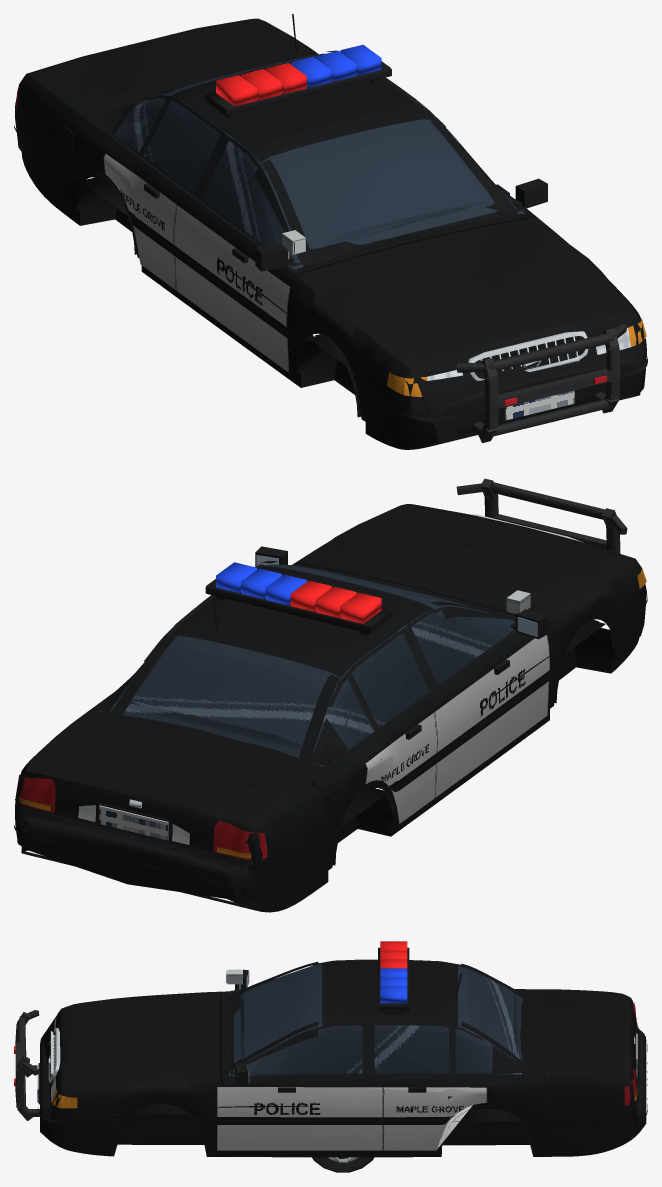
Rendered from crownpi08.glb.
3 renders of one model, top to bottom at view 1: azimuth 30°, elevation 25°; view 2: azimuth 150°, elevation 25°; view 3: azimuth 270°, elevation 25°, orthographic. The views are drawn at different scales.
Parts seen in each view (by area): view 1: Paint, Body, Body_far, Paint_far, BarR, BarB; view 2: Paint, Body, Body_far, Paint_far, BarR, BarB; view 3: Paint, Body, Body_far, Paint_far, BarB, BarR, Wheel_far, Wheel.
Part boxes in pixels (x1,y1,x2,y2): Paint: [15, 18, 646, 449]; Body: [14, 14, 647, 444]; Body_far: [81, 14, 641, 442]; Paint_far: [72, 105, 640, 442]; BarR: [216, 63, 306, 106]; BarB: [290, 44, 381, 87]; Paint: [15, 504, 646, 912]; Body: [14, 478, 647, 909]; Body_far: [98, 483, 627, 849]; Paint_far: [19, 584, 614, 904]; BarR: [290, 580, 381, 623]; BarB: [216, 562, 306, 605]; Paint: [40, 961, 646, 1157]; Body: [14, 948, 647, 1150]; Body_far: [14, 947, 639, 1150]; Paint_far: [40, 989, 646, 1156]; BarB: [380, 968, 407, 1003]; BarR: [380, 941, 407, 968]; Wheel_far: [323, 1157, 370, 1170]; Wheel: [312, 1157, 374, 1172].
Size of the model in its own units: 2.17 by 2.06 by 5.63.
Materials: 5 (3 with a texture image).
